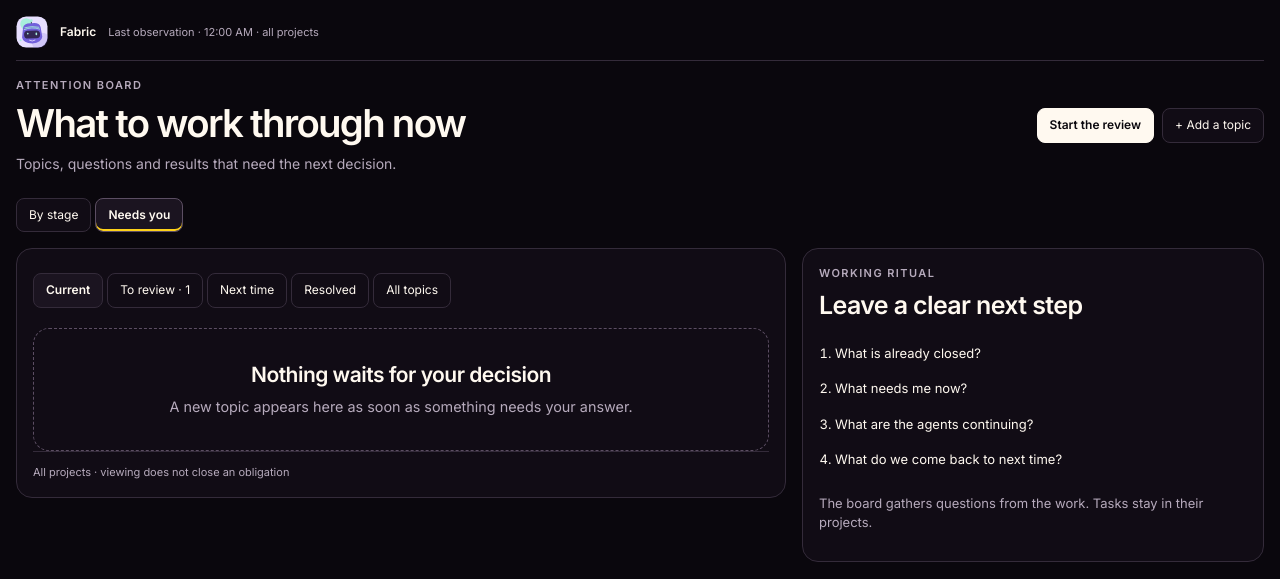
Scenario: a decision says what it did › and shows the checker’s refusal, its remedy and whether retrying can work
The width and height of the screenshot is (1280, 579).
Step 1. Click the button "To review · 1" → click(155, 291), box [107,273,203,308]
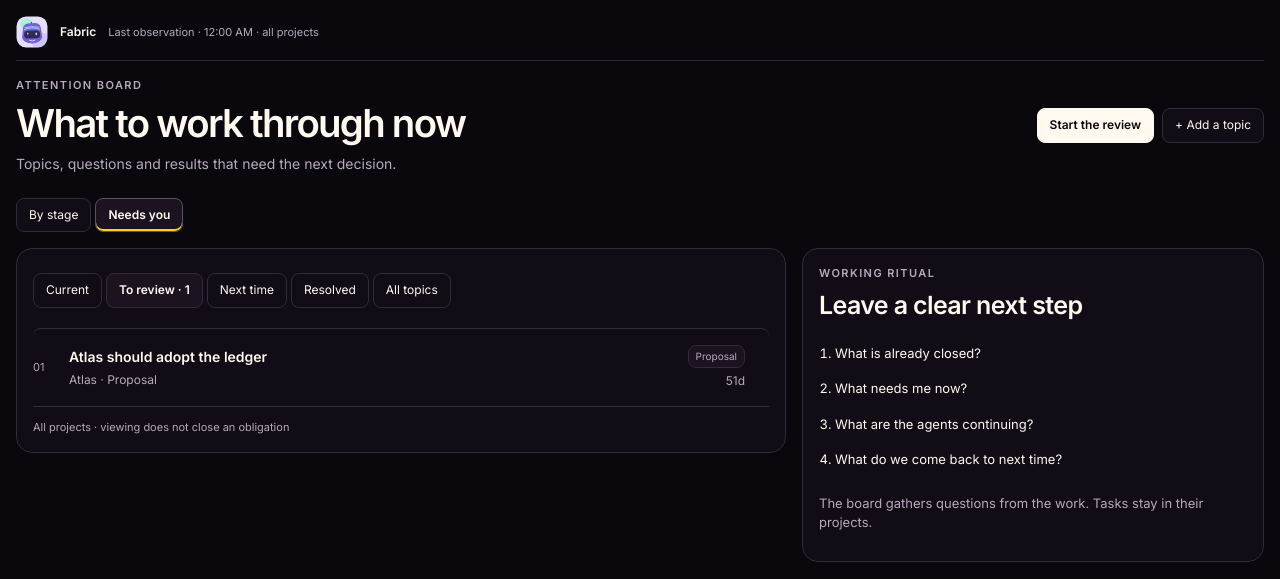
Step 2. Click the text "Atlas should adopt the ledger" → click(168, 357), box [69,348,267,365]
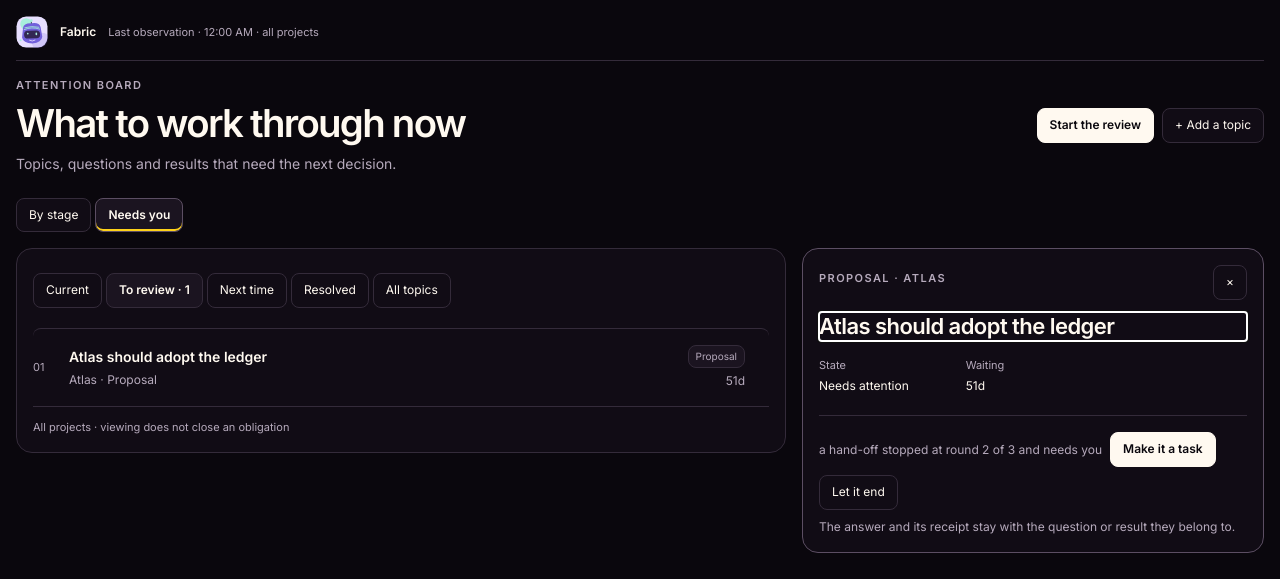
Step 3. Click the button "Make it a task" → click(1163, 450), box [1110,432,1216,467]
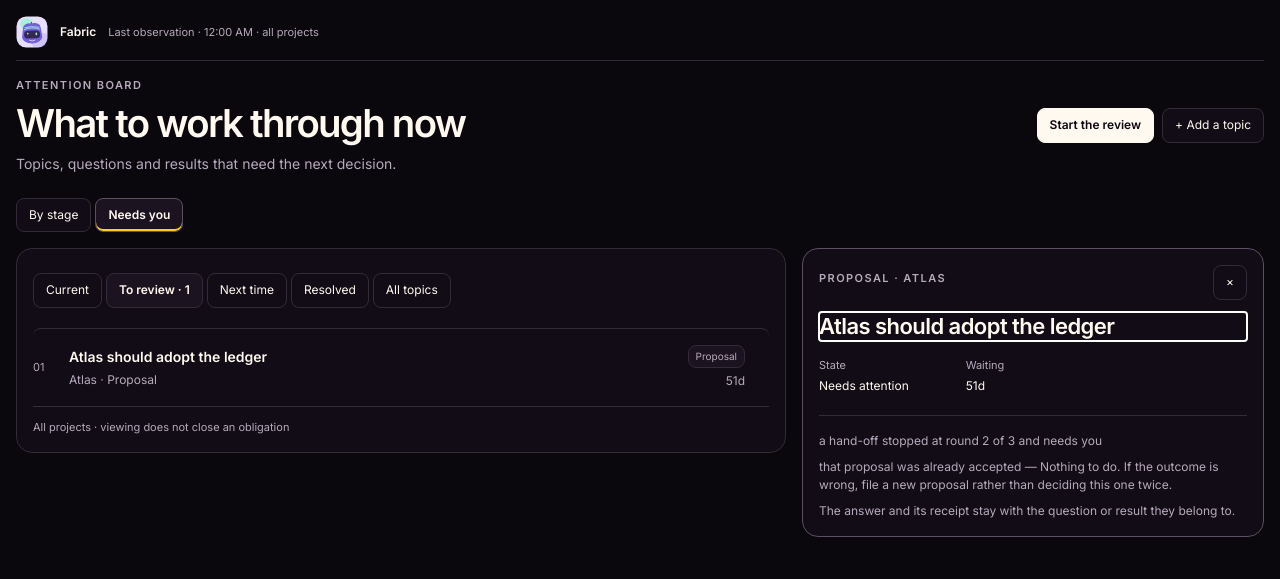
Expected: the message shows "Nothing to do. If the outcome is wrong, file a new proposal rather than deciding this one twice.", [819,459,1219,492]
